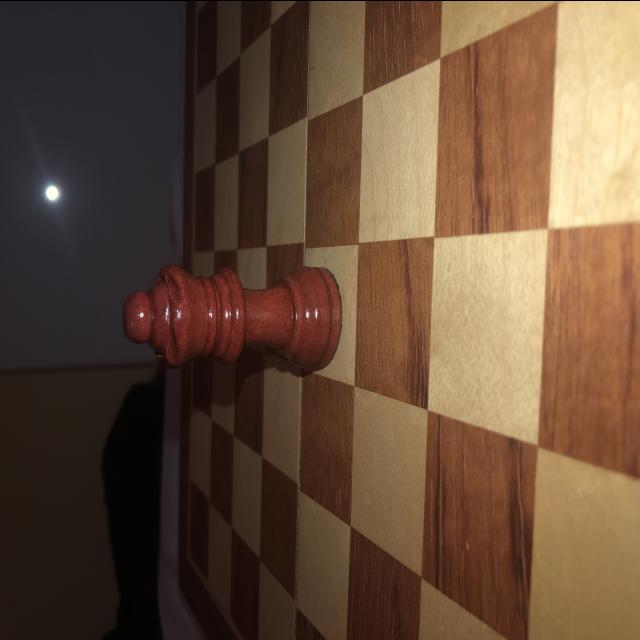black_queen: (120, 260, 342, 374)
